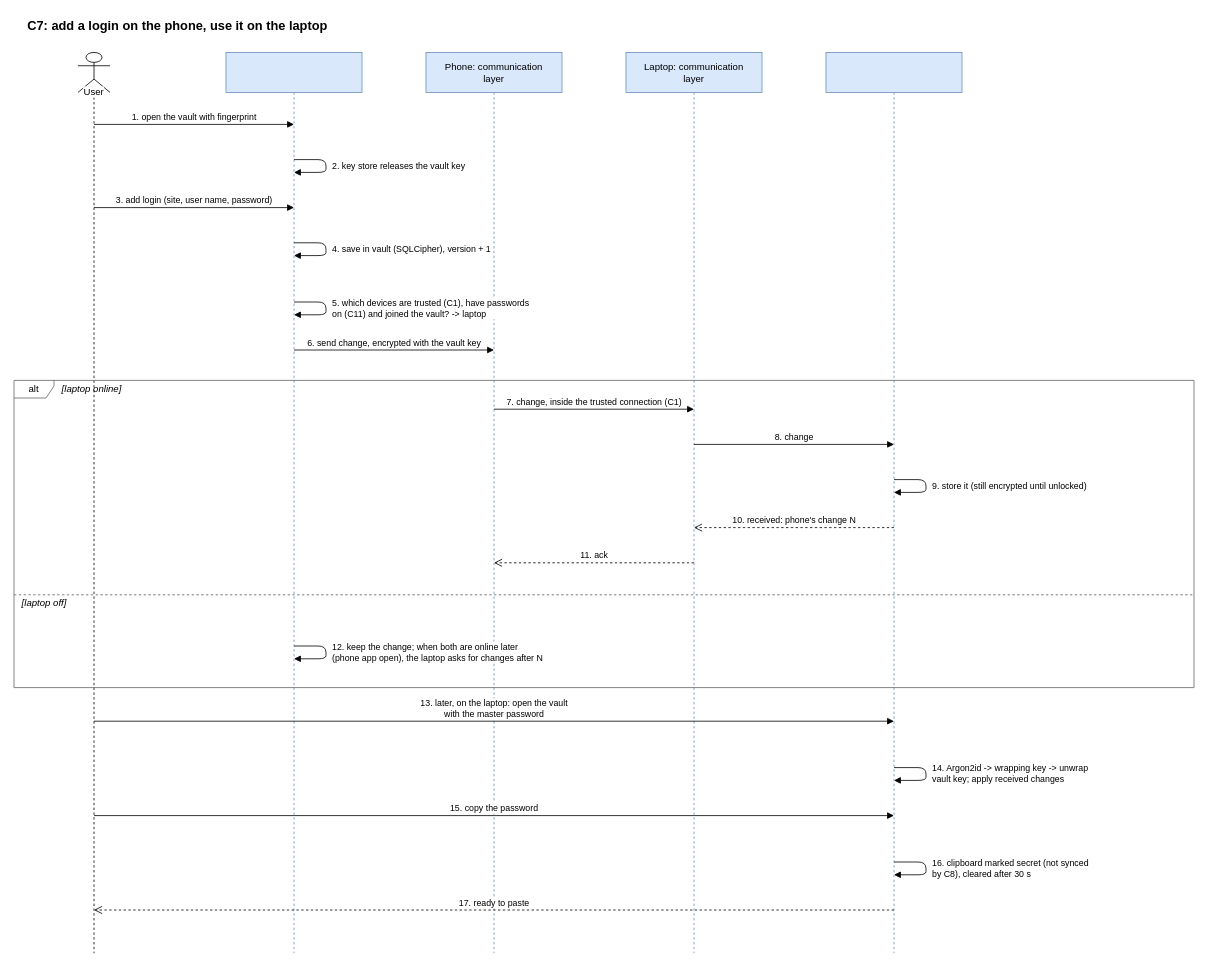
The diagram is 1209 pixels wide and 967 high, and some of its shapes have lost their labels. The shapes that lost their labels are listed below. From the top down, each one's box as (x1, y1, x2, y2) in pixels, then its label:
(225, 52, 362, 953): Phone: C7 module
(825, 52, 962, 953): Laptop: C7 module
